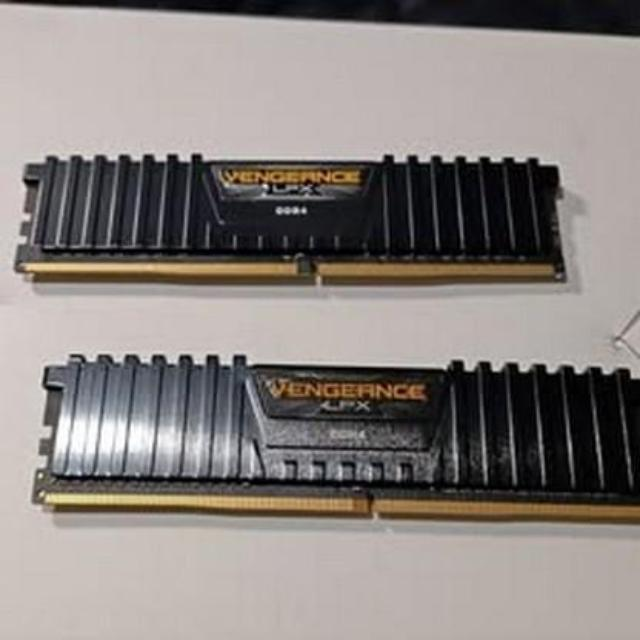RAM: (29, 348, 640, 530), (1, 147, 579, 296)
